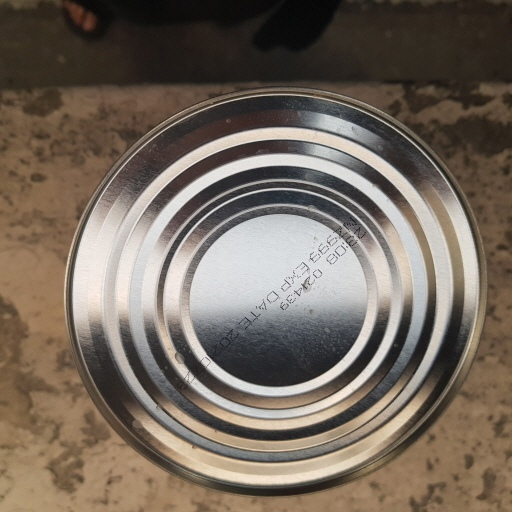Metal_1: (63, 86, 488, 497)
